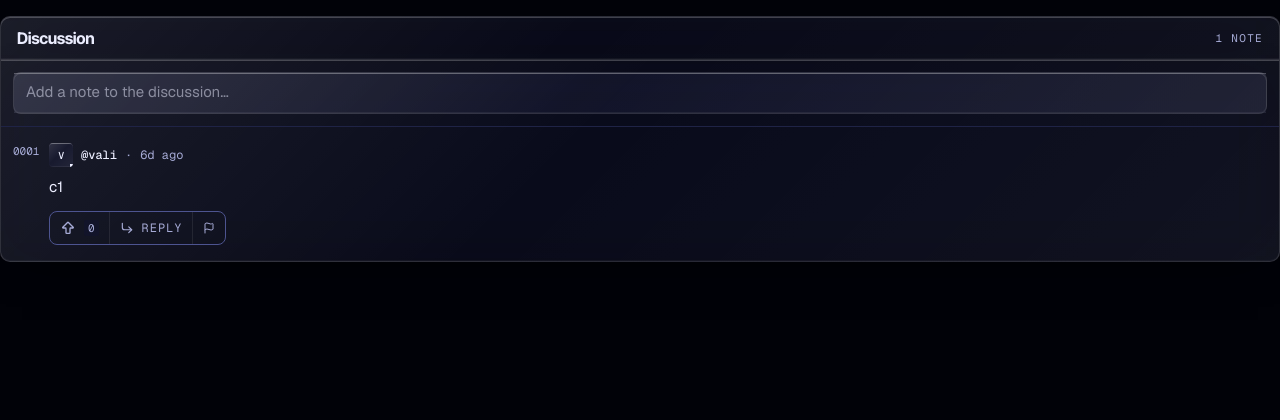
Responses › posts a response and refreshes
Type "Great story" into the text box named "Write a note" at [640, 93], box [14,73,1266,113]
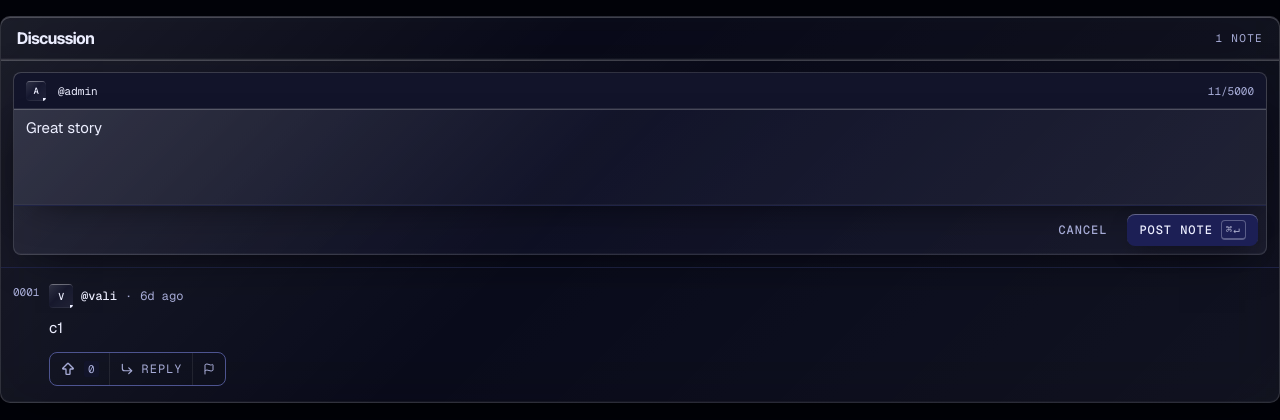
Click the 2nd button named "Post note" at [1193, 230], box [1127,214,1258,246]
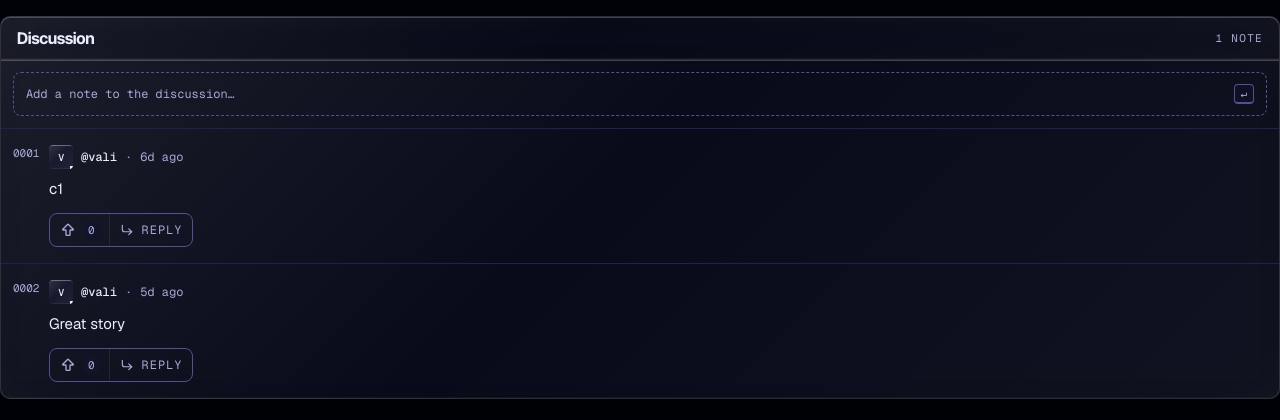
Expected: the text "Great story" is shown, [49,314,125,333]
